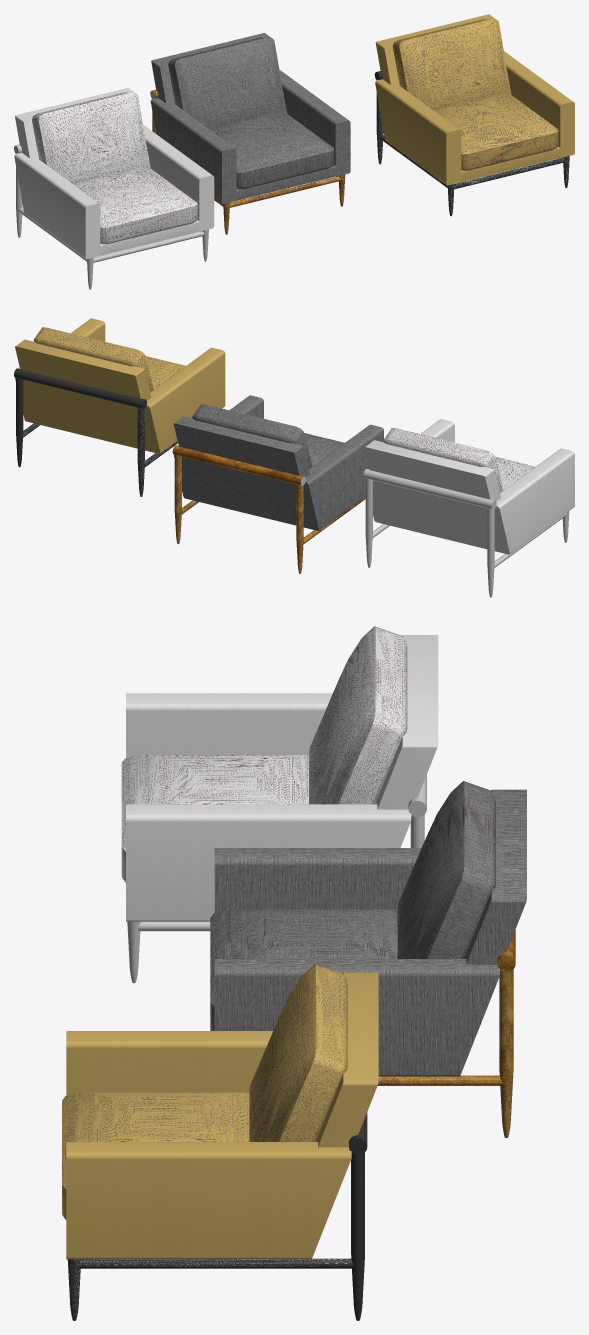
The picture shows the model from 3 angles, top to bottom: view 1: azimuth 30°, elevation 25°; view 2: azimuth 150°, elevation 25°; view 3: azimuth 270°, elevation 25°; orthographic projection. The views are drawn at different scales.
Visible parts, largest first — view 1: Difference (×6), karlstad_cushion_1 (×2), karlstad_cushion_2 (×2), karlstad_cushion_3 (×2), group_8, group_24, group_37, group_2, group_28, group_15; view 2: Difference (×6), group_8, group_24, group_37, karlstad_cushion_1 (×2), karlstad_cushion_3 (×2), karlstad_cushion_2 (×2), group_33, group_10, group_29, group_16, group_3 (+7 smaller); view 3: Difference (×6), karlstad_cushion_2 (×2), karlstad_cushion_3 (×2), karlstad_cushion_1 (×2), group_8, group_37, group_24, group_5, group_19, group_6, group_18.
Boxes of the visible parts, bbox=[...] form: Difference (×6): bbox=[14, 51, 574, 258]; karlstad_cushion_1 (×2): bbox=[168, 37, 333, 189]; karlstad_cushion_2 (×2): bbox=[32, 92, 197, 244]; karlstad_cushion_3 (×2): bbox=[392, 19, 558, 170]; group_8: bbox=[375, 14, 504, 85]; group_24: bbox=[151, 33, 280, 104]; group_37: bbox=[15, 88, 143, 158]; group_2: bbox=[461, 146, 560, 181]; group_28: bbox=[100, 220, 199, 255]; group_15: bbox=[236, 165, 335, 200]; Difference (×6): bbox=[15, 318, 574, 554]; group_8: bbox=[15, 339, 151, 448]; group_24: bbox=[173, 416, 309, 525]; group_37: bbox=[364, 440, 500, 549]; karlstad_cushion_1 (×2): bbox=[192, 404, 344, 468]; karlstad_cushion_3 (×2): bbox=[33, 327, 185, 391]; karlstad_cushion_2 (×2): bbox=[383, 428, 535, 492]; group_33: bbox=[427, 485, 496, 509]; group_10: bbox=[78, 384, 146, 408]; group_29: bbox=[363, 469, 429, 493]; group_16: bbox=[172, 445, 238, 469]; group_3: bbox=[14, 368, 79, 393]; Difference (×6): bbox=[66, 693, 499, 1259]; karlstad_cushion_2 (×2): bbox=[121, 626, 407, 882]; karlstad_cushion_3 (×2): bbox=[62, 964, 347, 1219]; karlstad_cushion_1 (×2): bbox=[210, 781, 495, 1030]; group_8: bbox=[315, 972, 378, 1147]; group_37: bbox=[375, 635, 438, 809]; group_24: bbox=[464, 789, 526, 964]; group_5: bbox=[78, 1258, 354, 1268]; group_19: bbox=[499, 969, 513, 1137]; group_6: bbox=[351, 1153, 364, 1320]; group_18: bbox=[377, 1076, 502, 1085].
Bounding box in the file's own units: 128 × 54.26 × 32.93.
